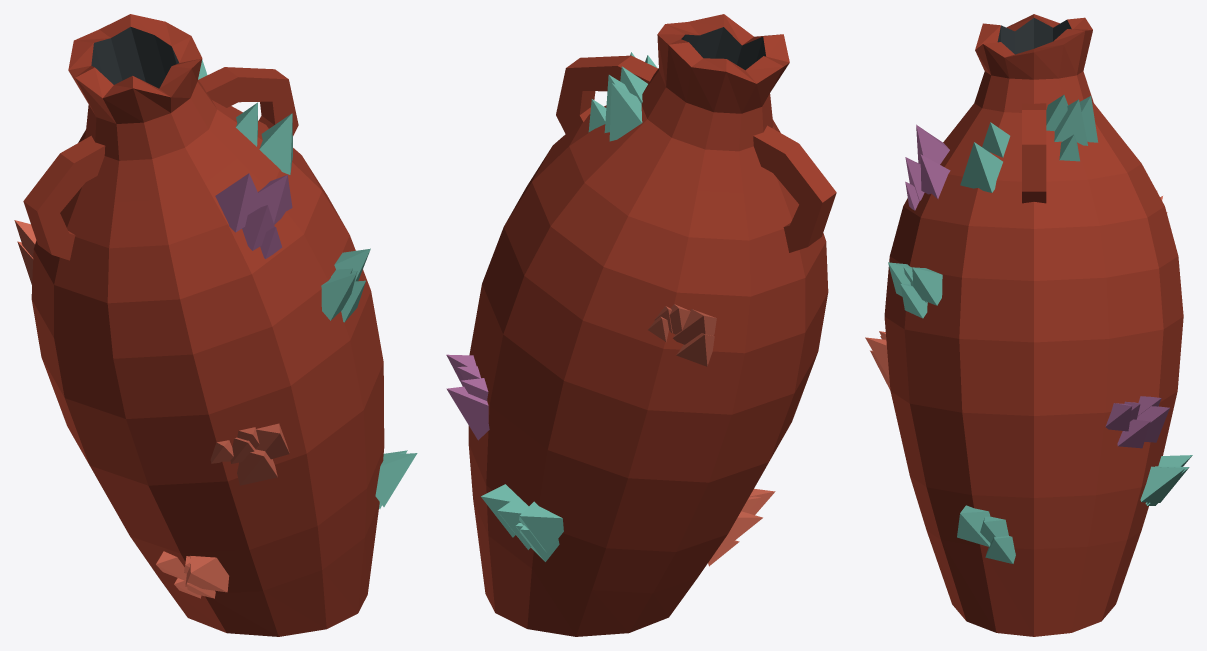
The model's file is clay-amphora-098d94.glb.
3 renders of one model, left to right at view 1: azimuth 30°, elevation 25°; view 2: azimuth 150°, elevation 25°; view 3: azimuth 270°, elevation 25°, orthographic. The views are drawn at different scales.
Visible parts, largest first — view 1: clay-amphora-shell; view 2: clay-amphora-shell; view 3: clay-amphora-shell.
Part boxes in pixels (bbox=[...]): clay-amphora-shell: bbox=[14, 14, 417, 636]; clay-amphora-shell: bbox=[446, 14, 836, 636]; clay-amphora-shell: bbox=[865, 14, 1192, 636].
Bounding box in the file's own units: 0.4957 × 0.8 × 0.4561.
